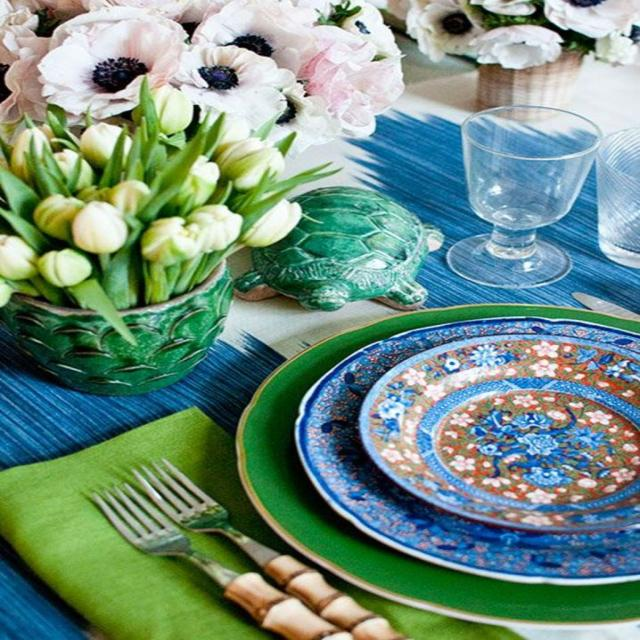non-organic waste: (261, 300, 640, 636)
